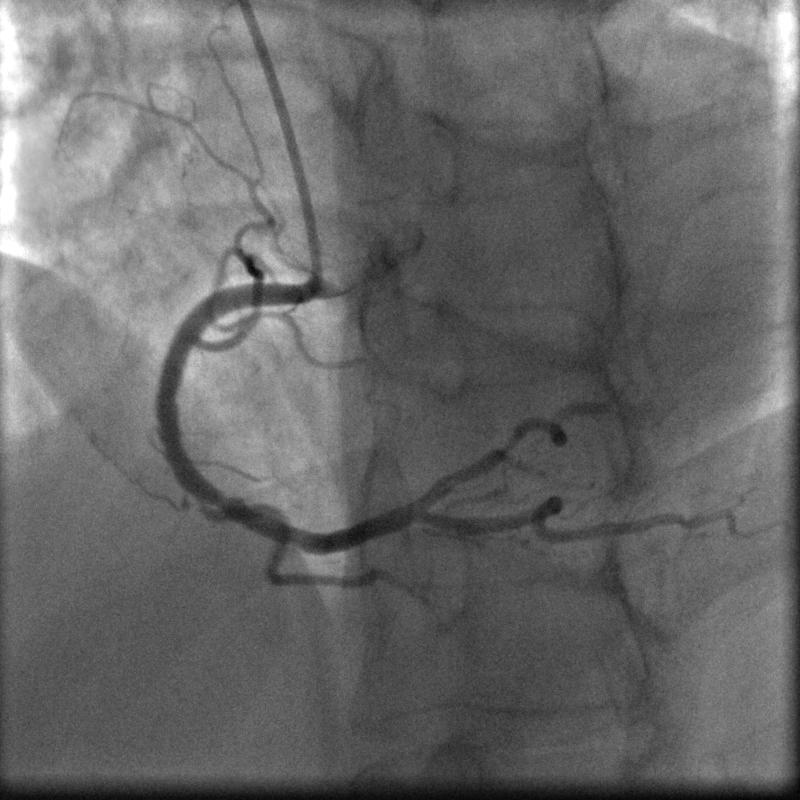Stenosis: (491, 424, 528, 459)
